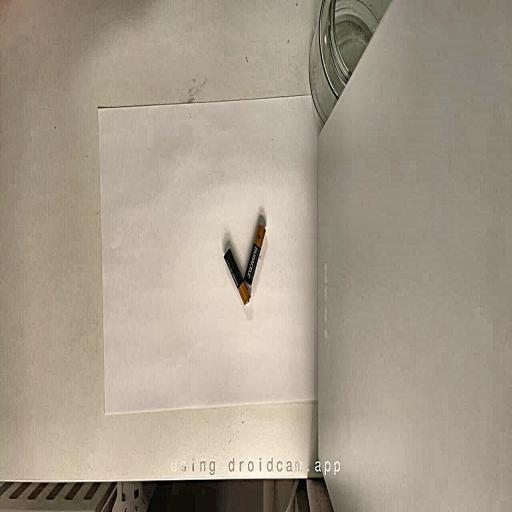DuracellAAA: (224, 248, 250, 304), (245, 224, 266, 285)
